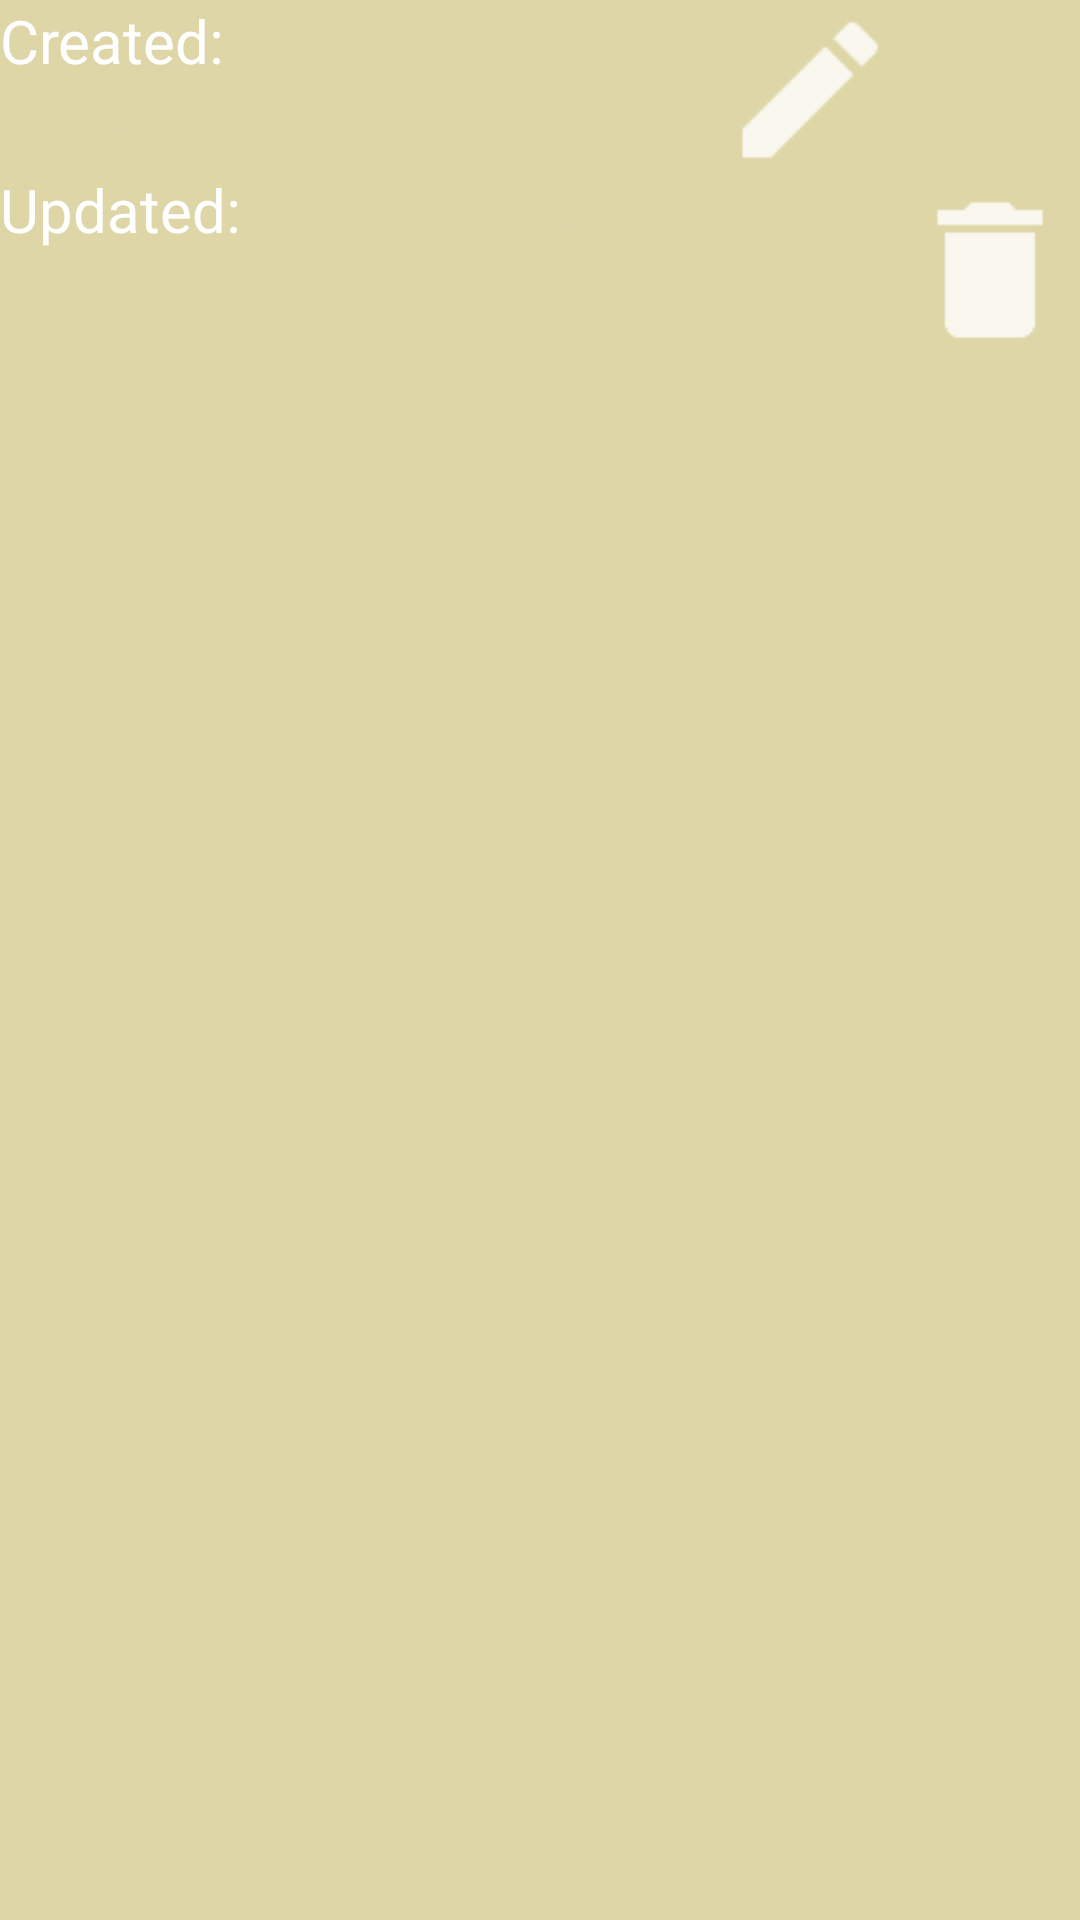

Screen size 1080w x 1920h. Icon name, then its center in pixels as point (x, y):
delete: point (990, 270)
edit: point (810, 90)
